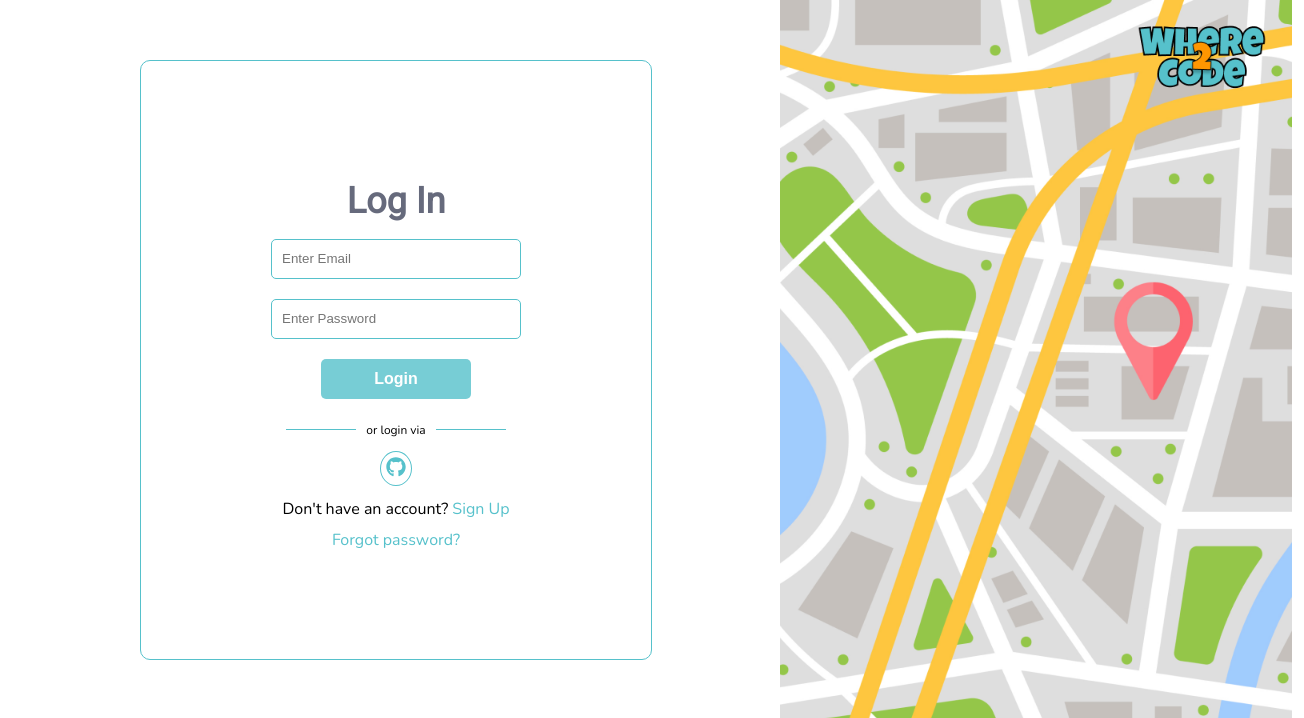
Test: Login tests › return an error if login is clicked while missing fields
This screenshot has width=1304, height=718.
In the field with placeholder "Enter Email": [396, 258] box [271,238,521,278], type "giacomobenati@mailbox.org"
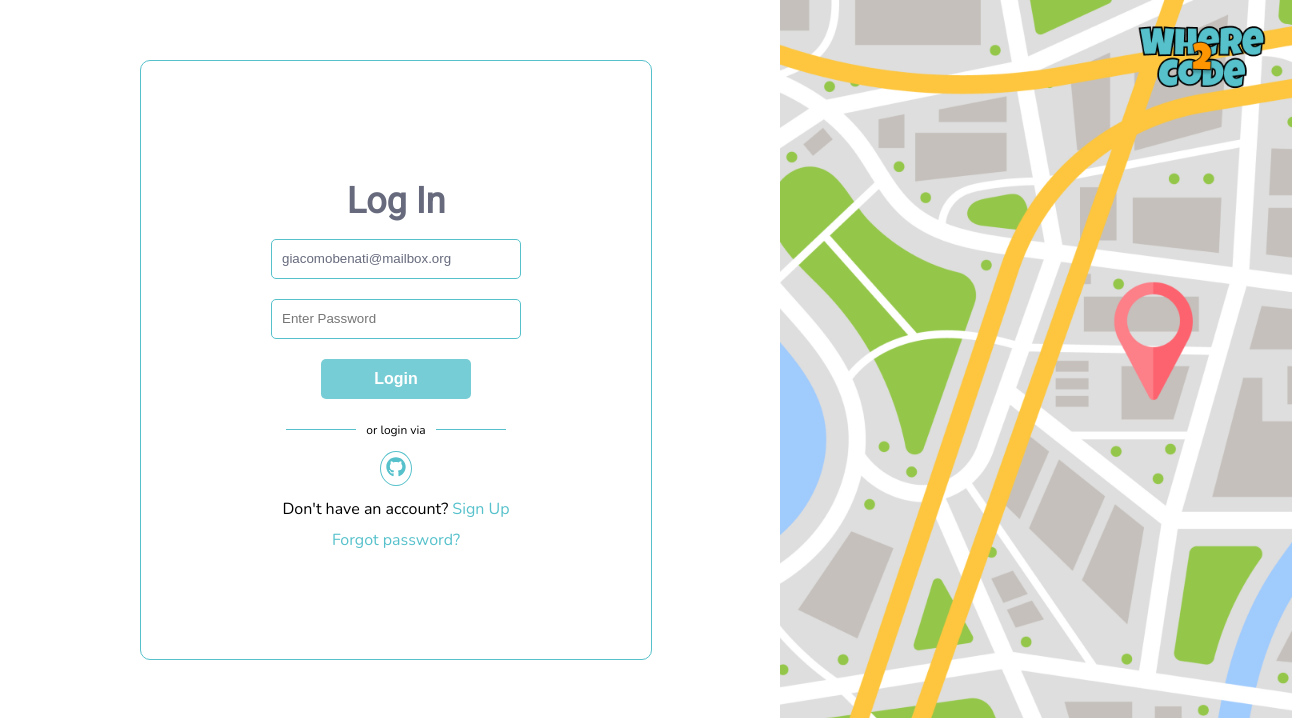
Click the button "Login": [396, 378] box [321,358,471,398]
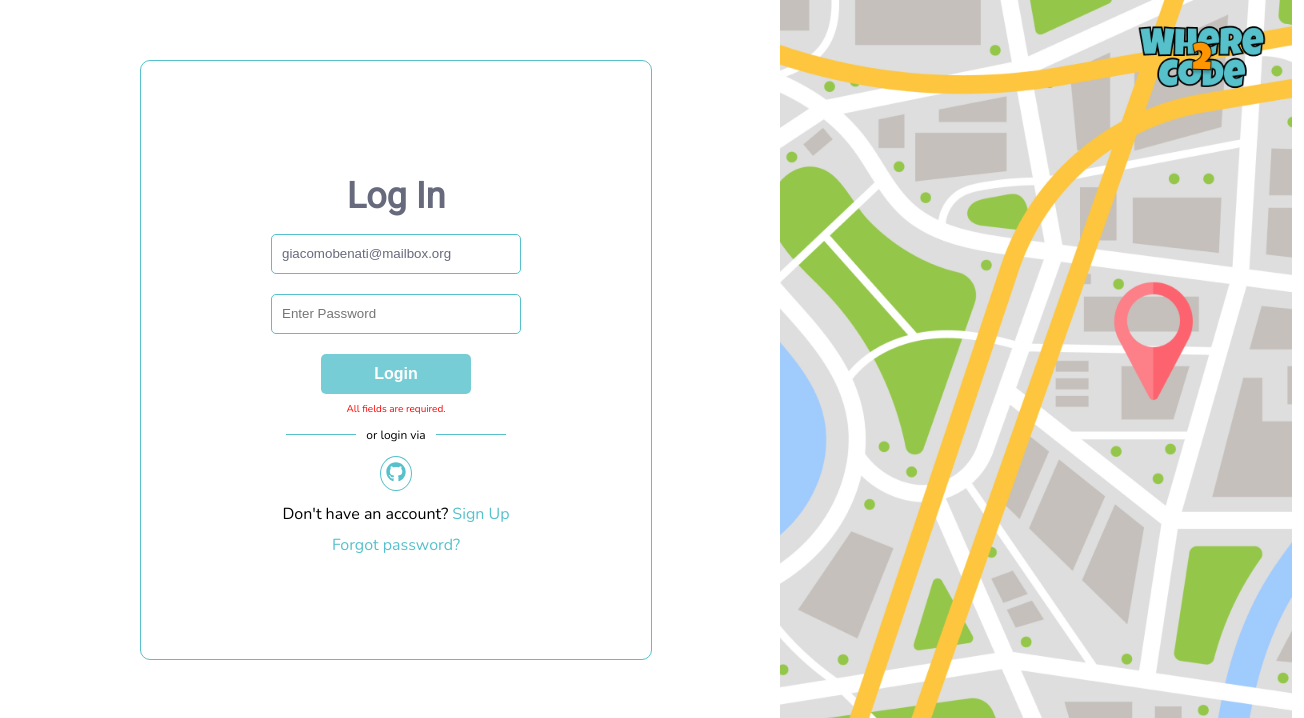
expect the text "All fields are required." is shown: met, box [346,404,446,414]
